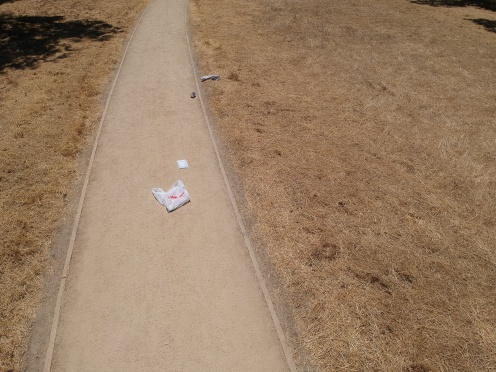can: (186, 89, 198, 99)
plastic bag: (146, 171, 195, 212)
